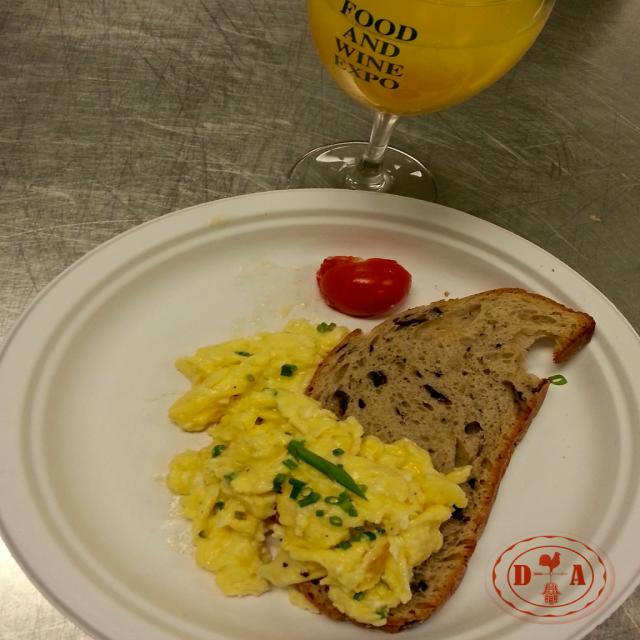non-organic waste: (15, 184, 640, 640)
